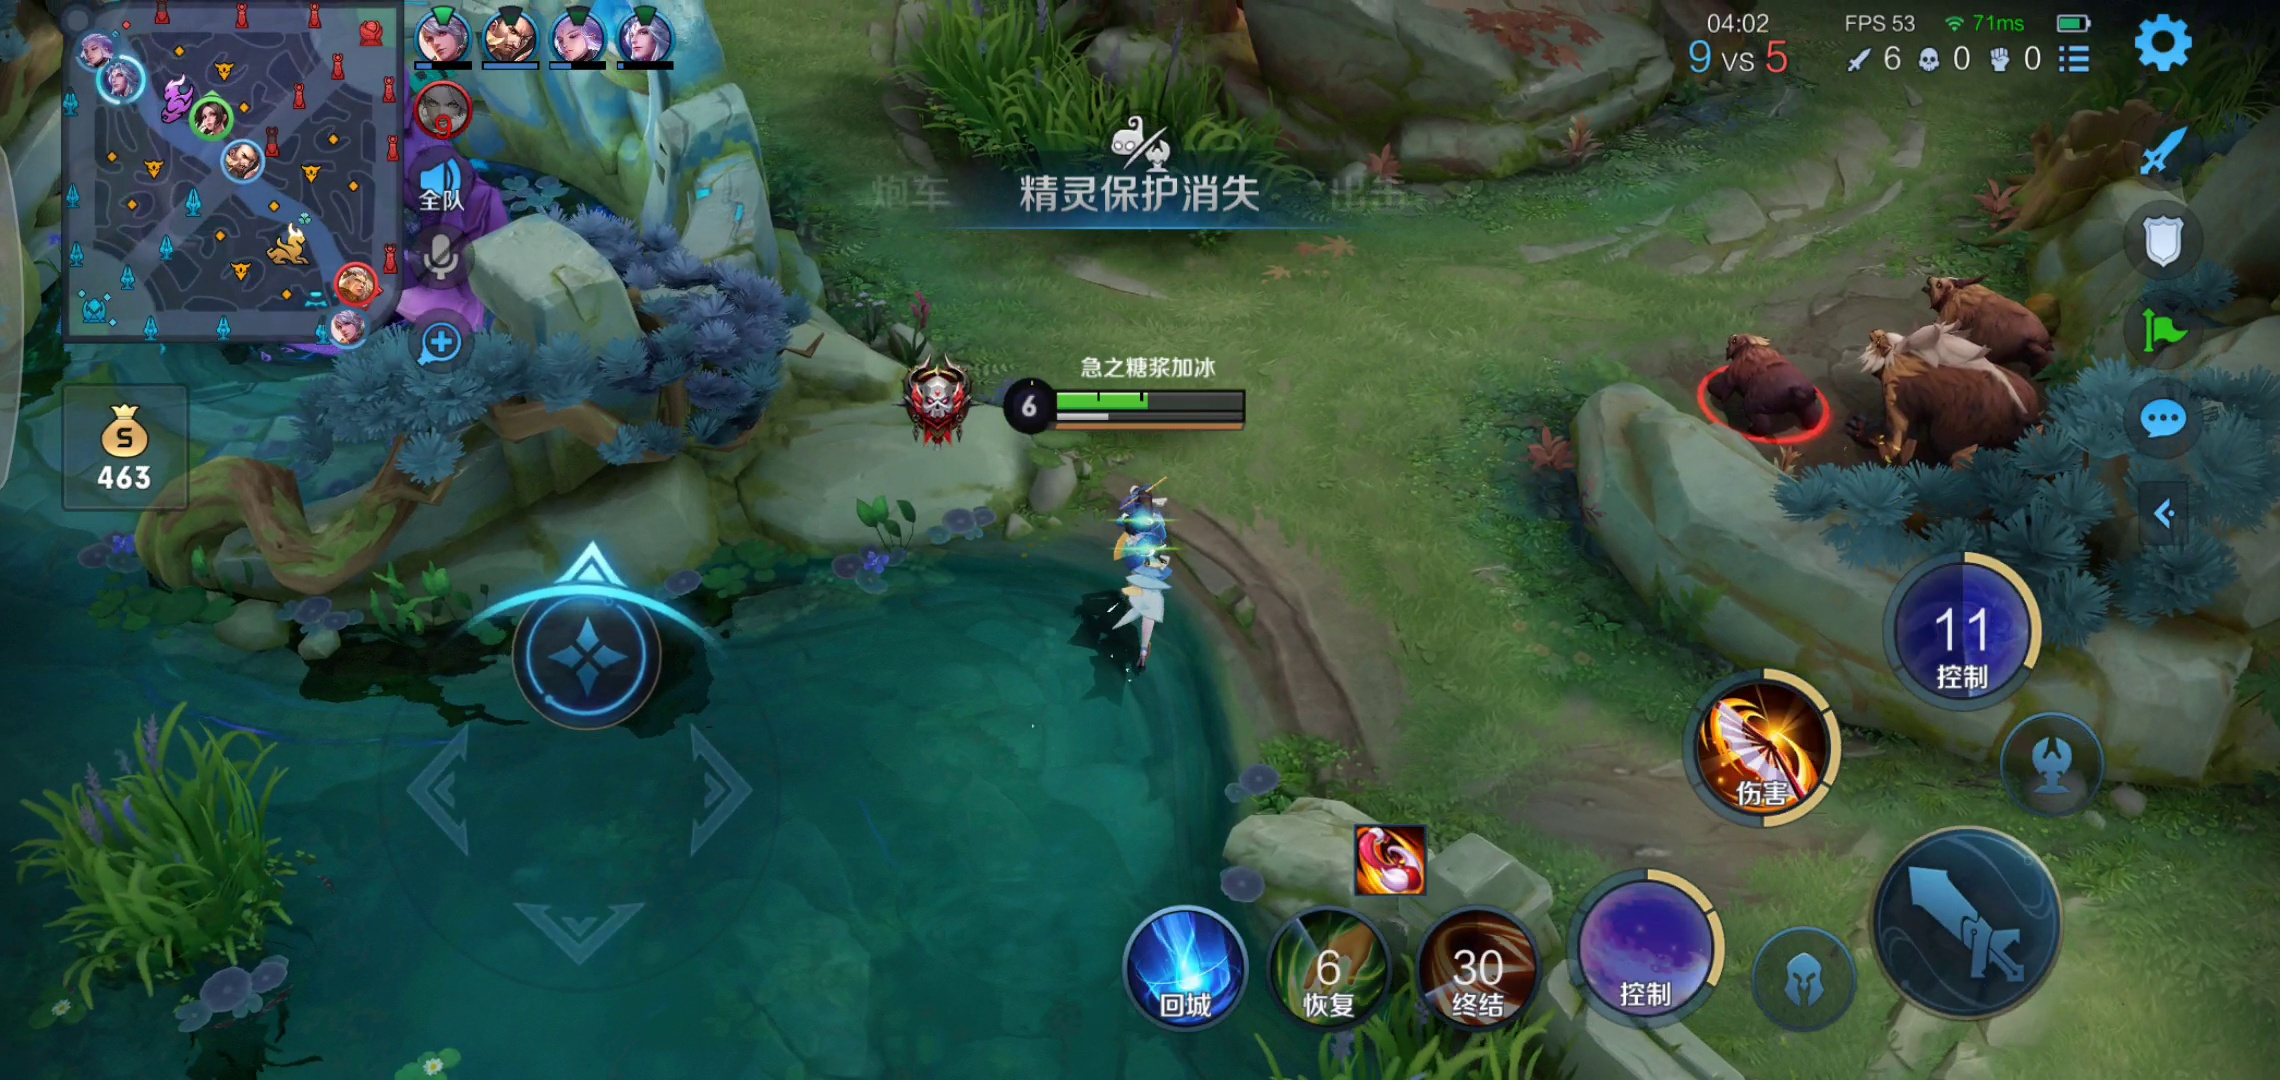grass: (896, 9, 1301, 253), (12, 717, 318, 1006), (1259, 939, 1576, 1080)
hero: (1066, 467, 1203, 677)
wild_monster: (1663, 249, 2065, 478)
